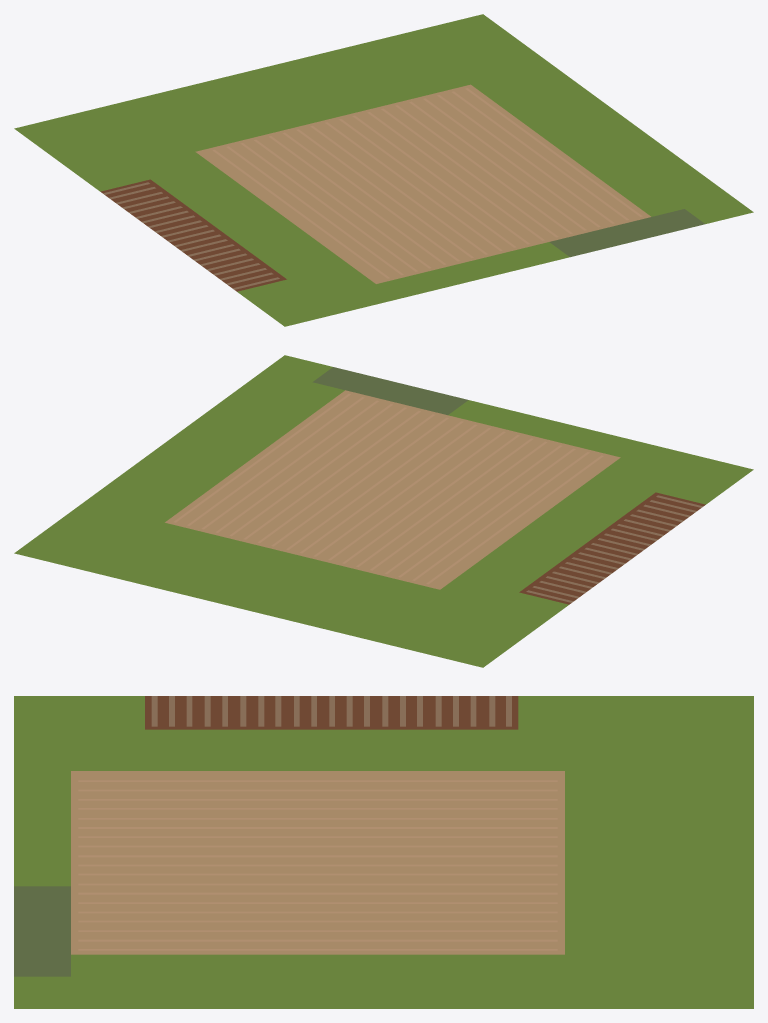
File: crossing-11-0.glb
The picture shows the model from 3 angles, top to bottom: view 1: azimuth 30°, elevation 25°; view 2: azimuth 150°, elevation 25°; view 3: azimuth 270°, elevation 25°; orthographic projection. The views are drawn at different scales.
Parts seen in each view (by area): view 1: crossing-11-0; view 2: crossing-11-0; view 3: crossing-11-0.
Boxes of the visible parts, x1=… form: crossing-11-0: x1=14, y1=14, x2=753, y2=326; crossing-11-0: x1=14, y1=355, x2=753, y2=667; crossing-11-0: x1=14, y1=696, x2=753, y2=1008.
Bounding box in the file's own units: 100 × 0.0064 × 100.
